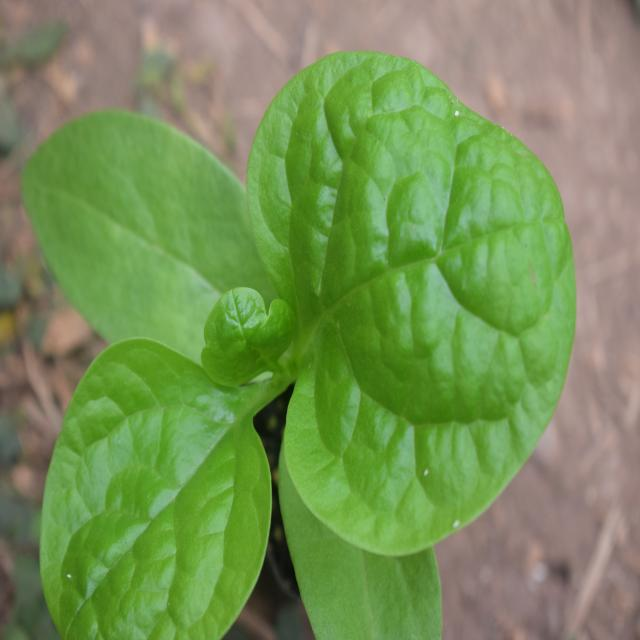Ceylon spinach: (31, 48, 557, 630)
